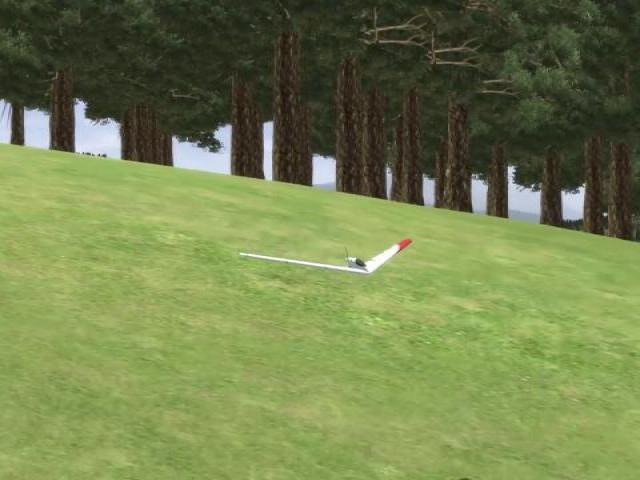flying wing: (239, 232, 413, 276)
